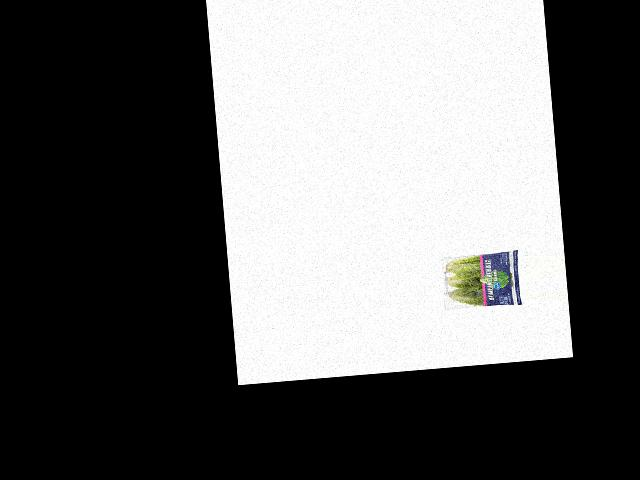lettuce: (442, 247, 520, 313)
